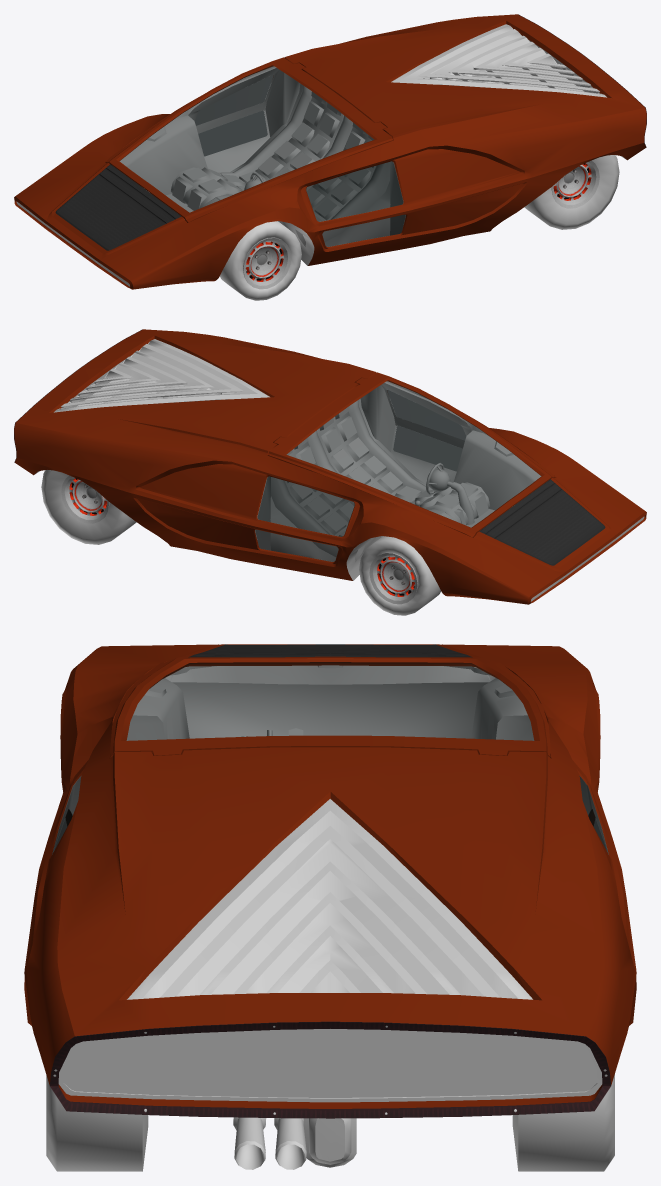
The model's file is ZEROPR.fbx.
3 renders of one model, top to bottom at view 1: azimuth 30°, elevation 25°; view 2: azimuth 150°, elevation 25°; view 3: azimuth 270°, elevation 25°, orthographic. The views are drawn at different scales.
Parts seen in each view (by area): view 1: bodyshel, bodyshell, door_glass, bodyshell_glass, hood, bodypanel, door, tire, tire_rear, wheel_front_left, wheel_rear_left, bodyshell_bottom; view 2: bodyshel, bodyshell, door_glass, bodyshell_glass, hood, bodypanel, door, tire001, tire_rear001, wheel_front_left001, wheel_rear_left001, bodyshell_bottom; view 3: bodyshel, hood, bodyshell_grill, door_glass, bodyshell, door, brakelights, tire_rear, tire_rear001, bodypanel, bodyshell_bottom, exhaust (+2 smaller).
Part boxes in pixels (bbox=[...]): bodyshel: bbox=[14, 14, 646, 289]; bodyshell: bbox=[120, 66, 405, 246]; door_glass: bbox=[120, 65, 373, 212]; bodyshell_glass: bbox=[195, 75, 405, 246]; hood: bbox=[391, 24, 606, 97]; bodypanel: bbox=[55, 164, 181, 250]; door: bbox=[105, 57, 393, 222]; tire: bbox=[219, 221, 301, 300]; tire_rear: bbox=[524, 155, 619, 229]; wheel_front_left: bbox=[243, 237, 291, 289]; wheel_rear_left: bbox=[551, 160, 599, 208]; bodyshell_bottom: bbox=[278, 35, 625, 265]; bodyshel: bbox=[14, 329, 646, 604]; bodyshell: bbox=[255, 381, 540, 561]; door_glass: bbox=[287, 380, 540, 527]; bodyshell_glass: bbox=[255, 390, 465, 561]; hood: bbox=[54, 339, 269, 412]; bodypanel: bbox=[479, 479, 605, 565]; door: bbox=[267, 372, 555, 537]; tire001: bbox=[359, 536, 440, 615]; tire_rear001: bbox=[41, 470, 136, 544]; wheel_front_left001: bbox=[369, 552, 417, 604]; wheel_rear_left001: bbox=[61, 475, 109, 523]; bodyshell_bottom: bbox=[35, 350, 382, 580]; bodyshel: bbox=[24, 644, 636, 1108]; hood: bbox=[127, 799, 532, 999]; bodyshell_grill: bbox=[63, 1029, 597, 1097]; door_glass: bbox=[127, 662, 533, 740]; bodyshell: bbox=[52, 665, 608, 854]; door: bbox=[110, 656, 550, 757]; brakelights: bbox=[49, 1021, 611, 1118]; tire_rear: bbox=[46, 1075, 148, 1171]; tire_rear001: bbox=[512, 1074, 614, 1171]; bodypanel: bbox=[188, 644, 472, 657]; bodyshell_bottom: bbox=[58, 1045, 602, 1102]; exhaust: bbox=[233, 1117, 306, 1169].
Bounding box in the file's own units: 142 × 33.39 × 72.69.
